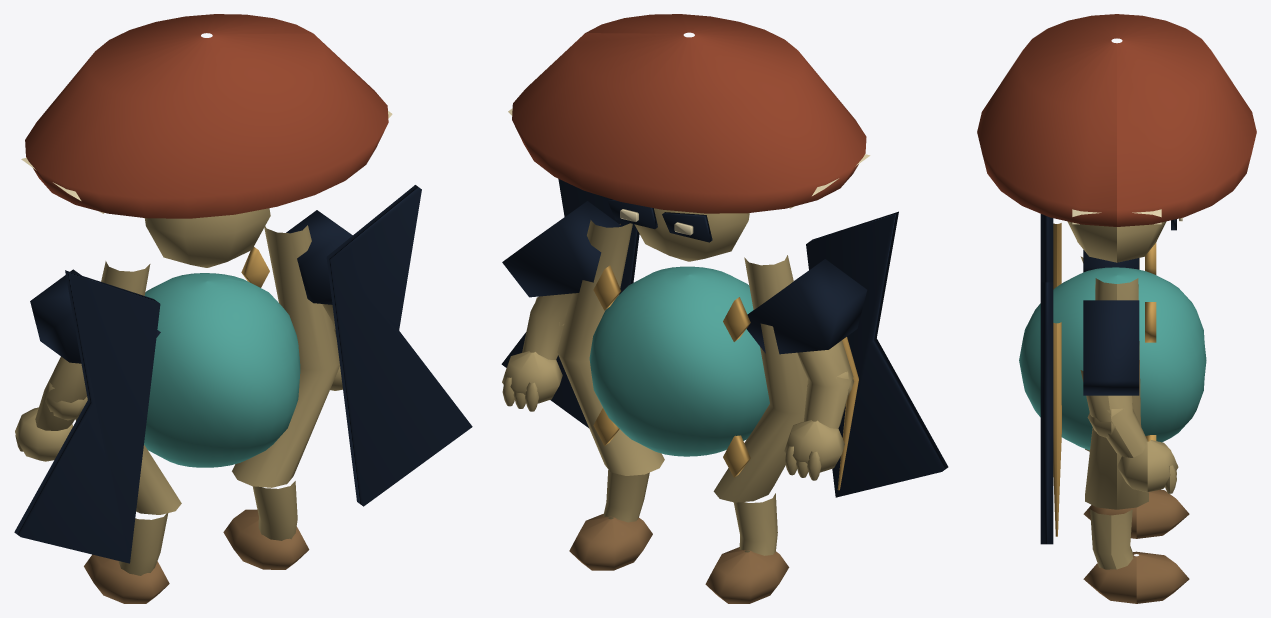
File: hero_mushroom.glb
The picture shows the model from 3 angles, left to right: view 1: azimuth 30°, elevation 25°; view 2: azimuth 150°, elevation 25°; view 3: azimuth 270°, elevation 25°; orthographic projection. The views are drawn at different scales.
Visible parts, largest first — view 1: ChefCap, TailoredCoat (×2), GlassCore, HollowStem1, ShoulderGuard (×2), MushroomFace, Foot1, HollowStem-1, Foot-1, Shin1, UpperArm-1, Shin-1 (+3 smaller); view 2: ChefCap, GlassCore, TailoredCoat (×2), ShoulderGuard (×2), HollowStem-1, HollowStem1, Foot1, Foot-1, UpperArm-1, MushroomFace, UpperArm1, VesselClasp (×3) (+6 smaller); view 3: ChefCap, GlassCore, ShoulderGuard (×2), TailoredCoat (×2), HollowStem1, Foot1, MushroomFace, UpperArm1, Foot-1, GiltSeam (×2), Shin1, Glove1 (+2 smaller).
Boxes of the visible parts, <box> form: ChefCap: <box>25,14,388,218</box>; TailoredCoat (×2): <box>14,185,472,563</box>; GlassCore: <box>144,273,300,467</box>; HollowStem1: <box>232,225,339,487</box>; ShoulderGuard (×2): <box>30,210,352,363</box>; MushroomFace: <box>144,208,270,267</box>; Foot1: <box>223,509,309,569</box>; HollowStem-1: <box>75,261,181,514</box>; Foot-1: <box>84,554,169,603</box>; Shin1: <box>252,481,297,540</box>; UpperArm-1: <box>35,356,86,430</box>; Shin-1: <box>118,513,168,575</box>; ChefCap: <box>512,14,866,213</box>; GlassCore: <box>589,266,769,456</box>; TailoredCoat (×2): <box>501,179,948,497</box>; ShoulderGuard (×2): <box>502,201,867,354</box>; HollowStem-1: <box>713,255,807,502</box>; HollowStem1: <box>557,220,664,475</box>; Foot1: <box>569,514,652,570</box>; Foot-1: <box>705,547,789,603</box>; UpperArm-1: <box>797,340,853,428</box>; MushroomFace: <box>634,208,749,261</box>; UpperArm1: <box>522,293,571,359</box>; VesselClasp (×3): <box>593,265,750,477</box>; ChefCap: <box>977,14,1256,226</box>; GlassCore: <box>1019,267,1206,450</box>; ShoulderGuard (×2): <box>1083,250,1139,395</box>; TailoredCoat (×2): <box>1040,214,1053,544</box>; HollowStem1: <box>1085,278,1148,509</box>; Foot1: <box>1083,551,1189,603</box>; MushroomFace: <box>1067,221,1166,262</box>; UpperArm1: <box>1080,370,1147,457</box>; Foot-1: <box>1083,489,1189,538</box>; GiltSeam (×2): <box>1053,223,1061,536</box>; Shin1: <box>1090,509,1133,569</box>; Glove1: <box>1117,439,1178,492</box>.
Size of the model in its own units: 1.78 by 2.08 by 1.
